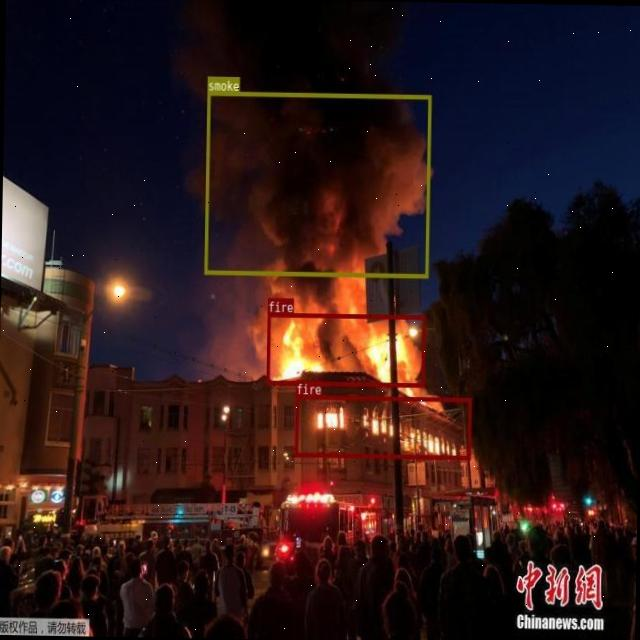fire: (266, 312, 424, 386), (294, 394, 471, 458)
smoke: (204, 91, 430, 278)
